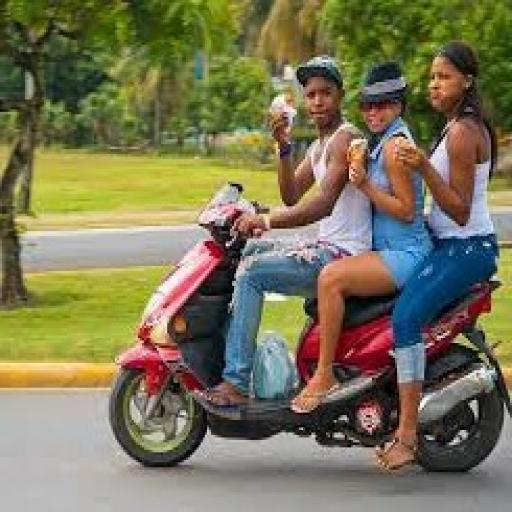overloading: (104, 176, 510, 472)
